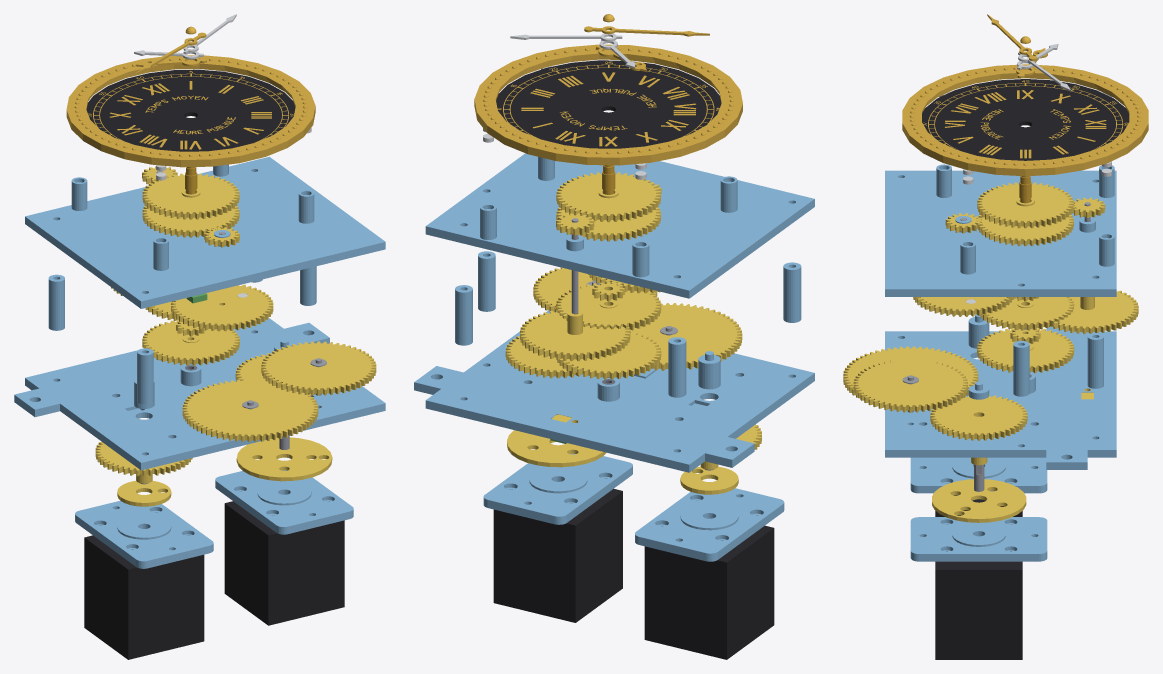
The model's file is m1_time_exploded.dae.
The picture shows the model from 3 angles, left to right: view 1: azimuth 30°, elevation 25°; view 2: azimuth 150°, elevation 25°; view 3: azimuth 270°, elevation 25°; orthographic projection. The views are drawn at different scales.
Visible parts, largest first — view 1: front_plate, back_plate, dial_field, motor_M1b, motor_M1, bezel, noon_wheel_64_N, adapter_M1, adapter_M1b, noon_wheel_54_12_X, silver_minute_wheel_48, gilt_hour_wheel_45 (+10 smaller); view 2: front_plate, back_plate, dial_field, motor_M1, motor_M1b, bezel, adapter_M1, adapter_M1b, noon_wheel_64_N, gilt_minute_wheel_48, gilt_hour_wheel_45, silver_drive_45 (+14 smaller); view 3: front_plate, back_plate, dial_field, bezel, motor_M1b, adapter_M1b, noon_wheel_54_12_X, adapter_M1, M1b_drive_45_noon_12, gilt_hour_wheel_45, M1b_flag_disc, gilt_drive_45 (+11 smaller).
Part boxes in pixels (x1,y1,x2,y2): front_plate: (25,156,385,308); back_plate: (14,318,385,470); dial_field: (86,69,295,151); motor_M1b: (224,501,344,625); motor_M1: (84,535,204,659); bezel: (66,55,315,167); noon_wheel_64_N: (182,379,318,442); adapter_M1: (75,500,213,568); adapter_M1b: (215,470,353,534); noon_wheel_54_12_X: (261,341,376,395); silver_minute_wheel_48: (171,284,273,331); gilt_hour_wheel_45: (142,173,239,219); front_plate: (425,153,814,298); back_plate: (414,310,814,472); dial_field: (496,60,721,148); motor_M1: (644,525,774,659); motor_M1b: (493,489,622,622); bezel: (474,44,742,165); adapter_M1: (635,488,784,561); adapter_M1b: (483,453,632,524); noon_wheel_64_N: (629,303,742,370); gilt_minute_wheel_48: (520,310,630,361); gilt_hour_wheel_45: (556,172,660,222); silver_drive_45: (556,283,661,330); front_plate: (885,164,1116,296); back_plate: (885,326,1116,469); dial_field: (922,79,1129,160); bezel: (902,64,1148,176); motor_M1b: (935,561,1022,659); adapter_M1b: (910,517,1047,561); noon_wheel_54_12_X: (853,358,967,412); adapter_M1: (910,457,1047,493); M1b_drive_45_noon_12: (930,394,1027,465); gilt_hour_wheel_45: (977,182,1073,228); M1b_flag_disc: (932,479,1026,522); gilt_drive_45: (977,328,1074,373).
Size of the model in its own units: 164 by 148 by 304.
